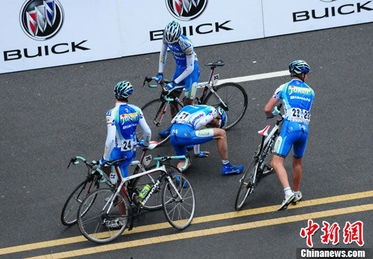falling: (162, 98, 247, 182)
